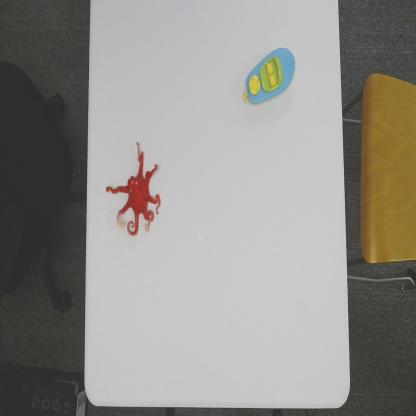Octopus: (106, 140, 164, 238), (240, 46, 298, 109)
